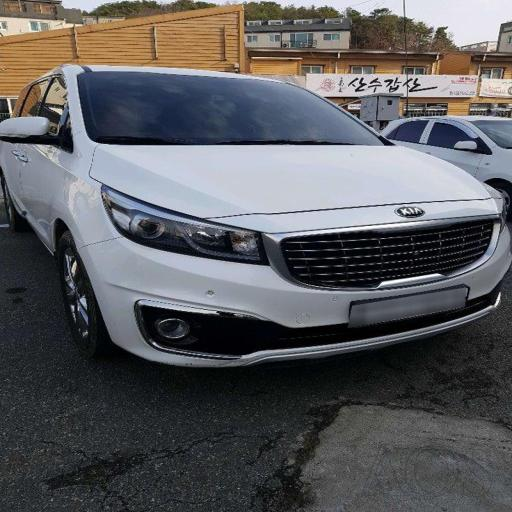scratch: (34, 146, 113, 237)
